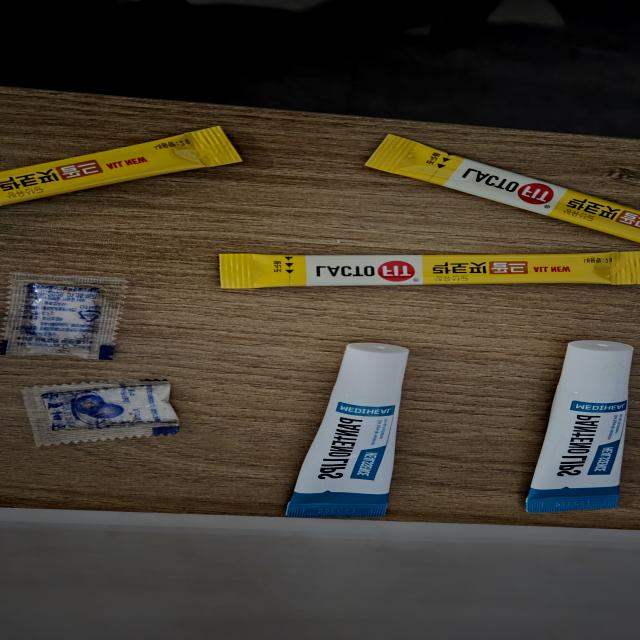lacto: (335, 125, 640, 246), (0, 117, 263, 214), (211, 245, 640, 295)
lip: (271, 331, 431, 522), (514, 334, 639, 518)
salt: (18, 372, 195, 448), (0, 268, 140, 362)
